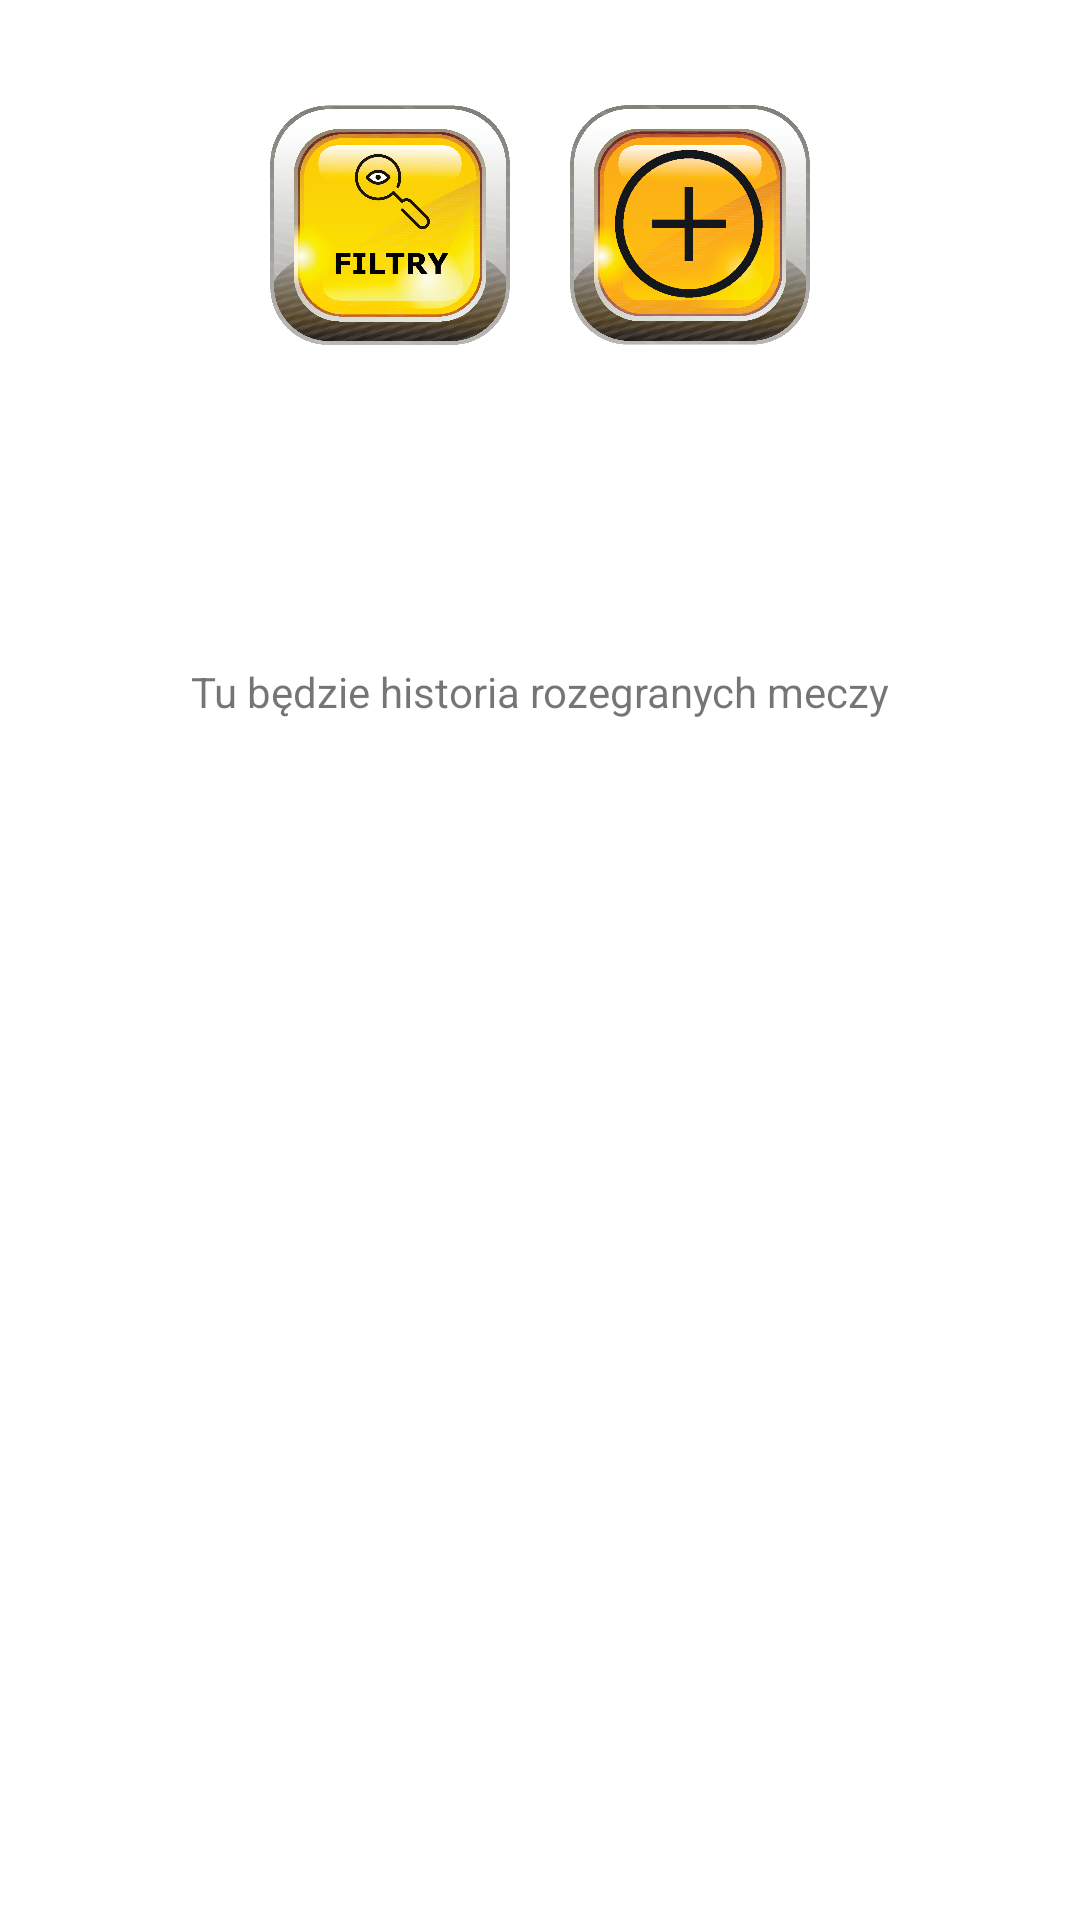

Where to tap for icons on this 1080px×1920px app screen, as [x,y]:
addmach: [690,225]
find: [390,225]
